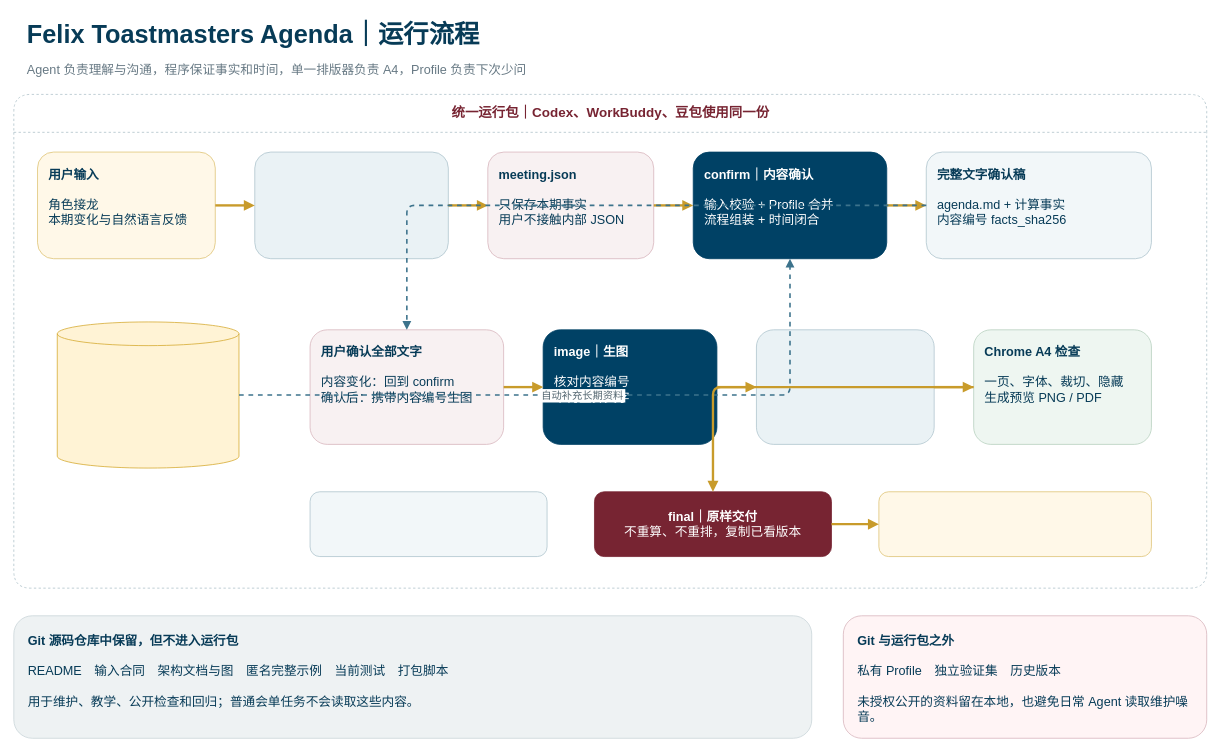
Some shapes in this 1221 by 752 pixel diagram are drawn without their labels. Each missing label, with the centre of its shape:
"SKILL.md + Agent 多轮沟通、识别缺项 过滤默认不展示的宣传文案" belongs at pixel 351 205.
"交付给用户：PDF / PNG 可直接使用，预览与最终内容一致" belongs at pixel 1014 524.
"内置＋本地 Profile 公开资料随 Skill 安装 本地资料优先覆盖 本期事实始终优先" belongs at pixel 147 394.
"单一 Renderer 统一 CSS、官方 Logo 离线字体" belongs at pixel 845 386.
"用户自然语言修改 内容回 confirm；纯视觉回 image" belongs at pixel 428 524.
